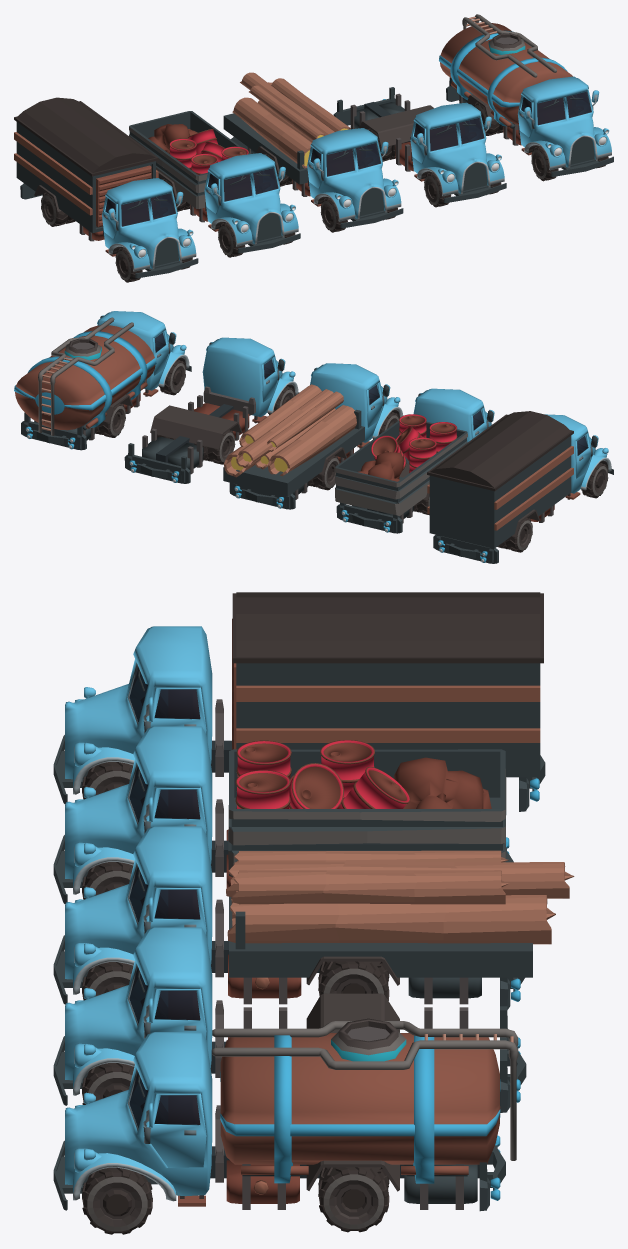
Rendered from vehicles_truck_collection.fbx.
3 renders of one model, top to bottom at view 1: azimuth 30°, elevation 25°; view 2: azimuth 150°, elevation 25°; view 3: azimuth 270°, elevation 25°, orthographic. The views are drawn at different scales.
Visible parts, largest first — view 1: Truck_Trailer3.001, Truck_Tanker.001, Truck_body, Truck_body.003, Truck_body.001, Truck_body.004, Truck_body.002, Prop2, Truck_Trailer2, Prop1, Truck_Trailler1, Truck_WheelCover.004 (+19 smaller); view 2: Truck_Trailer3.001, Truck_Tanker.001, Prop2, Truck_Trailer2, Truck_body.004, Prop1, Truck_body.001, Truck_Trailler1, Truck_WheelCover.004, Truck_body, Truck_body.002, Truck_body.003 (+18 smaller); view 3: Truck_Trailer3.001, Truck_Tanker.001, Prop2, Truck_Trailer2, Truck_body.002, Prop1, Truck_body.004, Truck_body.001, Truck_body, Truck_body.003, Truck_Trailler1, Truck_Wheel_Back.002 (+23 smaller).
Part boxes in pixels (<box>): Truck_Trailer3.001: <box>14,97,158,233</box>; Truck_Tanker.001: <box>439,14,572,128</box>; Truck_body: <box>205,153,298,246</box>; Truck_body.003: <box>103,178,196,271</box>; Truck_body.001: <box>308,128,401,221</box>; Truck_body.004: <box>411,102,504,196</box>; Truck_body.002: <box>519,76,611,170</box>; Prop2: <box>232,72,350,168</box>; Truck_Trailer2: <box>129,111,250,208</box>; Prop1: <box>148,124,248,174</box>; Truck_Trailler1: <box>223,113,308,184</box>; Truck_WheelCover.004: <box>359,105,433,147</box>; Truck_Trailer3.001: <box>427,411,573,548</box>; Truck_Tanker.001: <box>14,317,156,435</box>; Prop2: <box>223,384,356,477</box>; Truck_Trailer2: <box>334,420,467,515</box>; Truck_body.004: <box>203,337,298,423</box>; Prop1: <box>357,414,457,481</box>; Truck_body.001: <box>310,363,403,448</box>; Truck_Trailler1: <box>223,409,364,496</box>; Truck_WheelCover.004: <box>150,405,242,449</box>; Truck_body: <box>414,388,494,442</box>; Truck_body.002: <box>97,311,189,396</box>; Truck_body.003: <box>545,414,611,499</box>; Truck_Trailer3.001: <box>232,592,543,777</box>; Truck_Tanker.001: <box>212,1018,518,1183</box>; Prop2: <box>226,850,574,944</box>; Truck_Trailer2: <box>228,749,506,876</box>; Truck_body.002: <box>65,1032,212,1206</box>; Prop1: <box>235,740,491,808</box>; Truck_body.004: <box>65,927,212,1095</box>; Truck_body.001: <box>65,826,212,994</box>; Truck_body: <box>65,726,212,894</box>; Truck_body.003: <box>65,626,212,794</box>; Truck_Trailler1: <box>229,859,532,977</box>; Truck_Wheel_Back.002: <box>318,1167,389,1232</box>.
Size of the model in its own units: 3363 by 634 by 1539.
4 materials, 2 textured.
